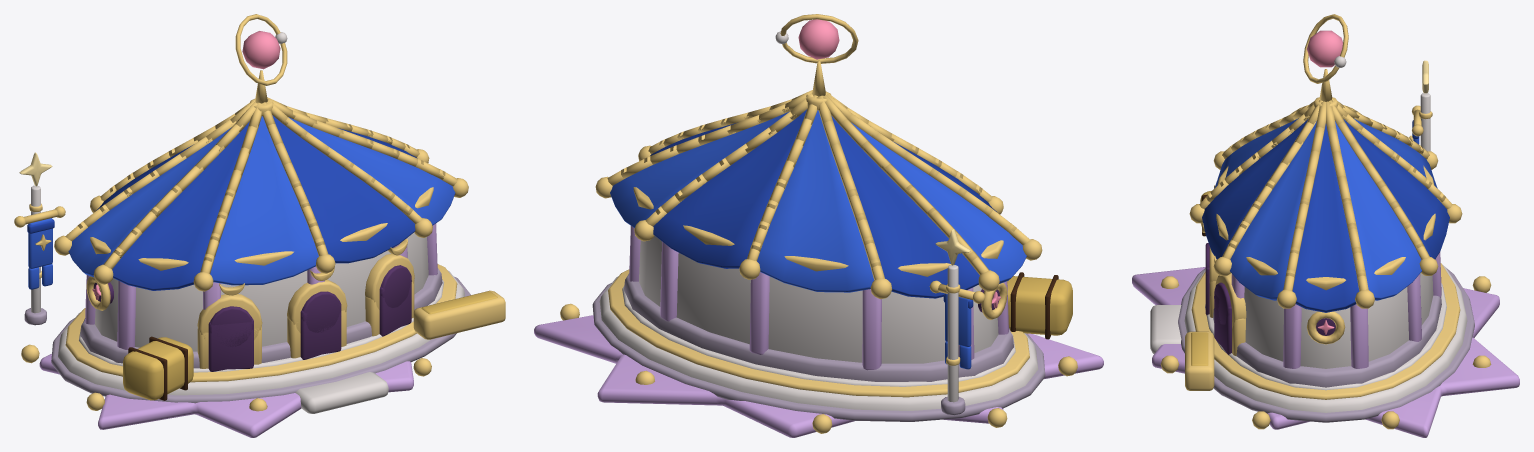
Rendered from Stables.glb.
3 views of the same model, side by side, from view 1: azimuth 30°, elevation 25°; view 2: azimuth 150°, elevation 25°; view 3: azimuth 270°, elevation 25° (orthographic). The views are drawn at different scales.
Parts seen in each view (by area): view 1: Stables; view 2: Stables; view 3: Stables.
Part boxes in pixels (bbox=[...]): Stables: bbox=[14, 14, 505, 437]; Stables: bbox=[534, 14, 1103, 437]; Stables: bbox=[1132, 14, 1519, 437].
Size of the model in its own units: 3.66 by 2.64 by 2.92.
